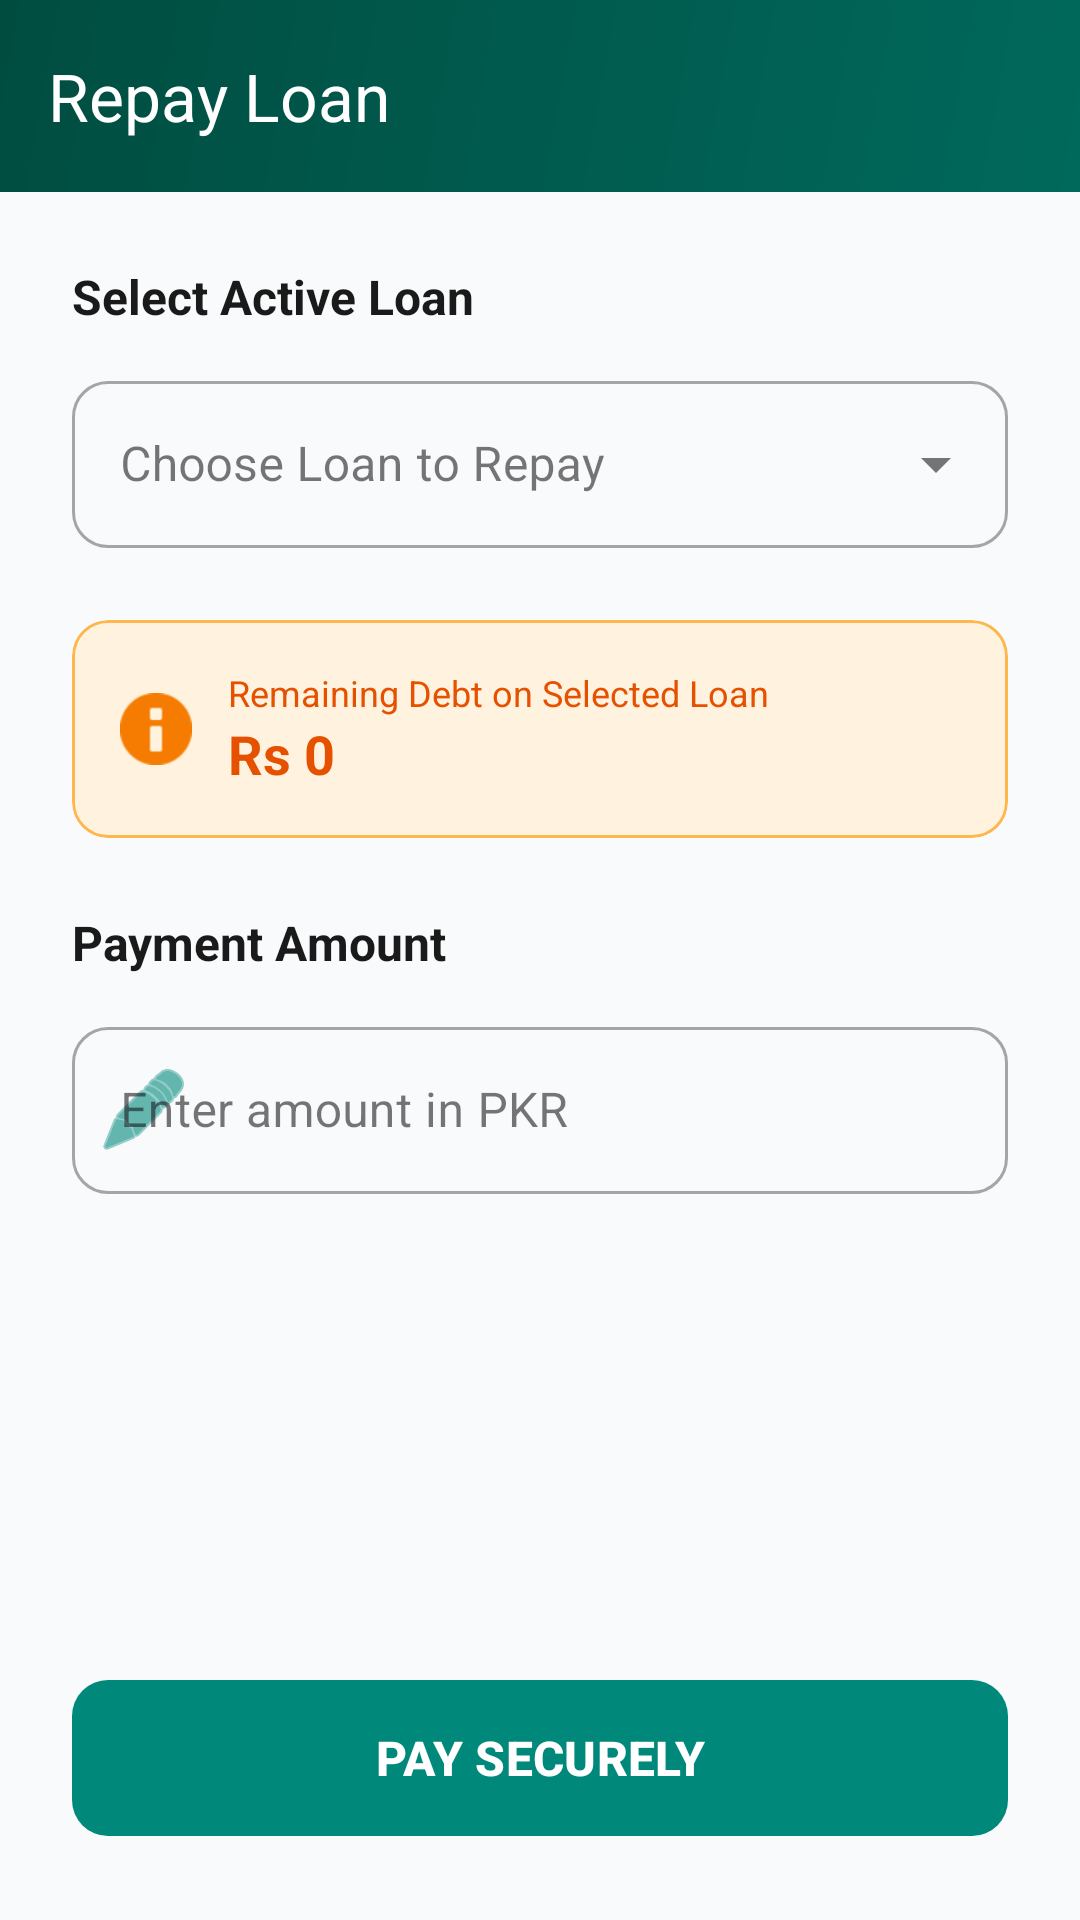

Named icons in this screenshot (1080w x 1920h) and their bounding boxes, Rect(x1, y1, x2, y2):
info: Rect(120, 693, 192, 765)
